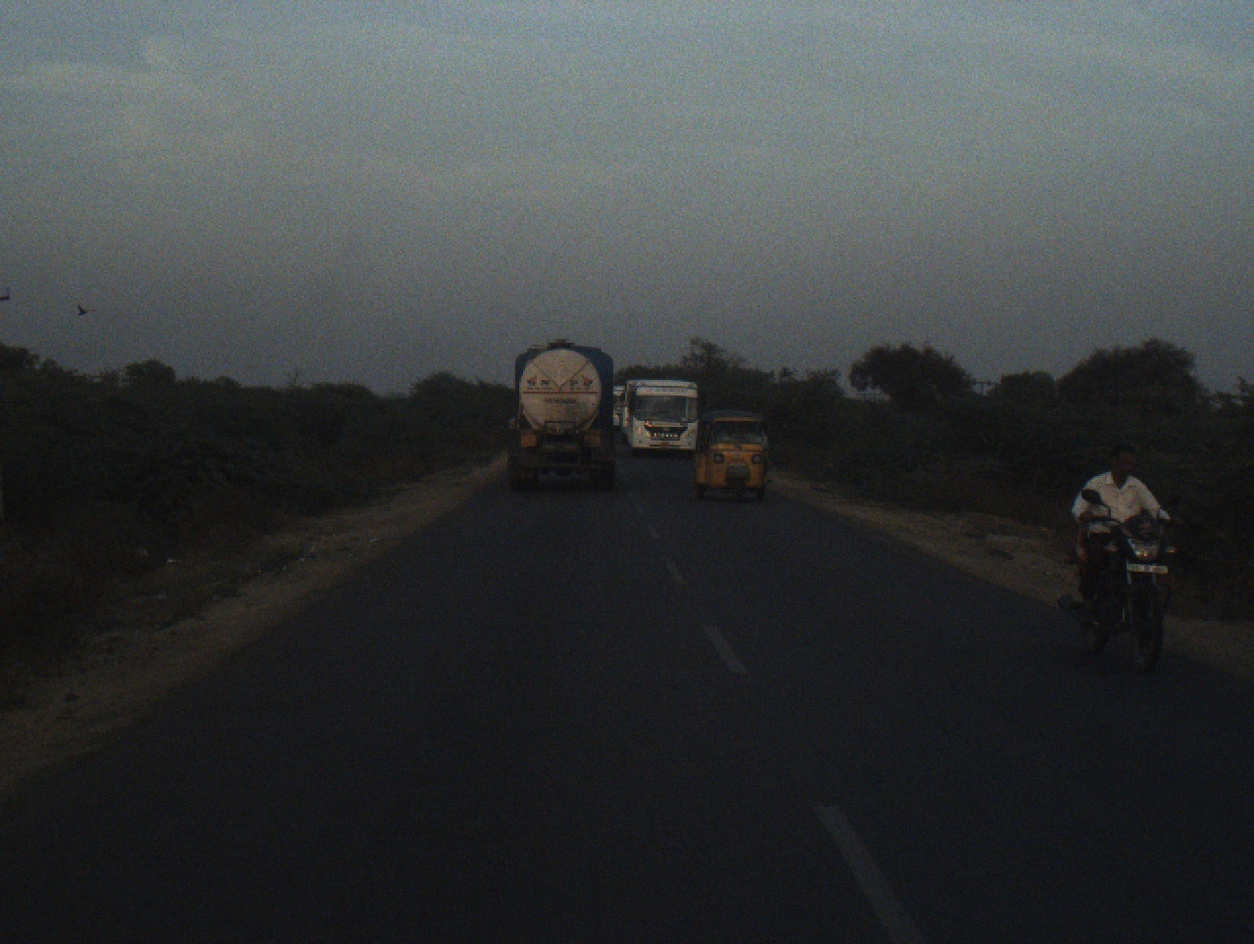autorickshaw: (693, 407, 775, 504)
bus: (622, 374, 703, 461), (613, 386, 622, 433)
motorcycle: (1063, 479, 1182, 683)
rider: (1072, 447, 1170, 649)
truck: (494, 334, 630, 497)
